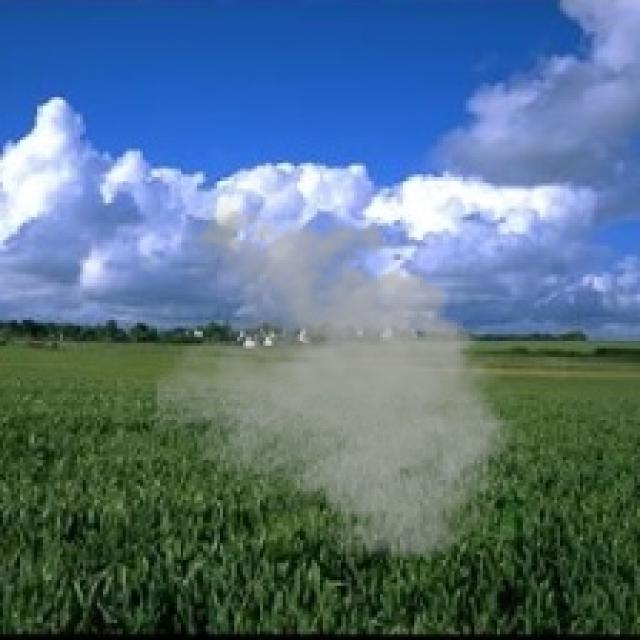Smoke: (152, 197, 528, 569)
